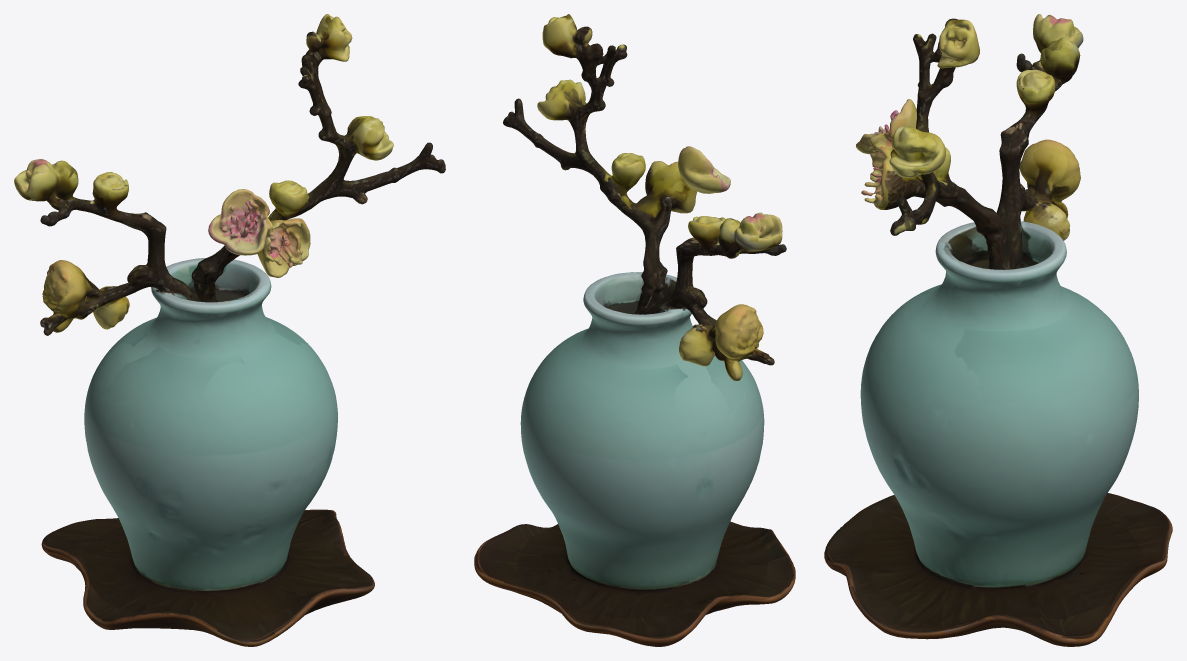
File: romantex_70.glb
The picture shows the model from 3 angles, left to right: view 1: azimuth 30°, elevation 25°; view 2: azimuth 150°, elevation 25°; view 3: azimuth 270°, elevation 25°; orthographic projection. The views are drawn at different scales.
Parts seen in each view (by area): view 1: texture_v130_hdr_21w_pbr_dino_11w.001; view 2: texture_v130_hdr_21w_pbr_dino_11w.001; view 3: texture_v130_hdr_21w_pbr_dino_11w.001.
Part boxes in pixels (box(x1,y1,x2,y2)): texture_v130_hdr_21w_pbr_dino_11w.001: box(14, 14, 445, 646); texture_v130_hdr_21w_pbr_dino_11w.001: box(474, 14, 795, 646); texture_v130_hdr_21w_pbr_dino_11w.001: box(824, 14, 1172, 646).
Size of the model in its own units: 1.34 by 2 by 1.03.
Materials: 1 (1 with a texture image).
